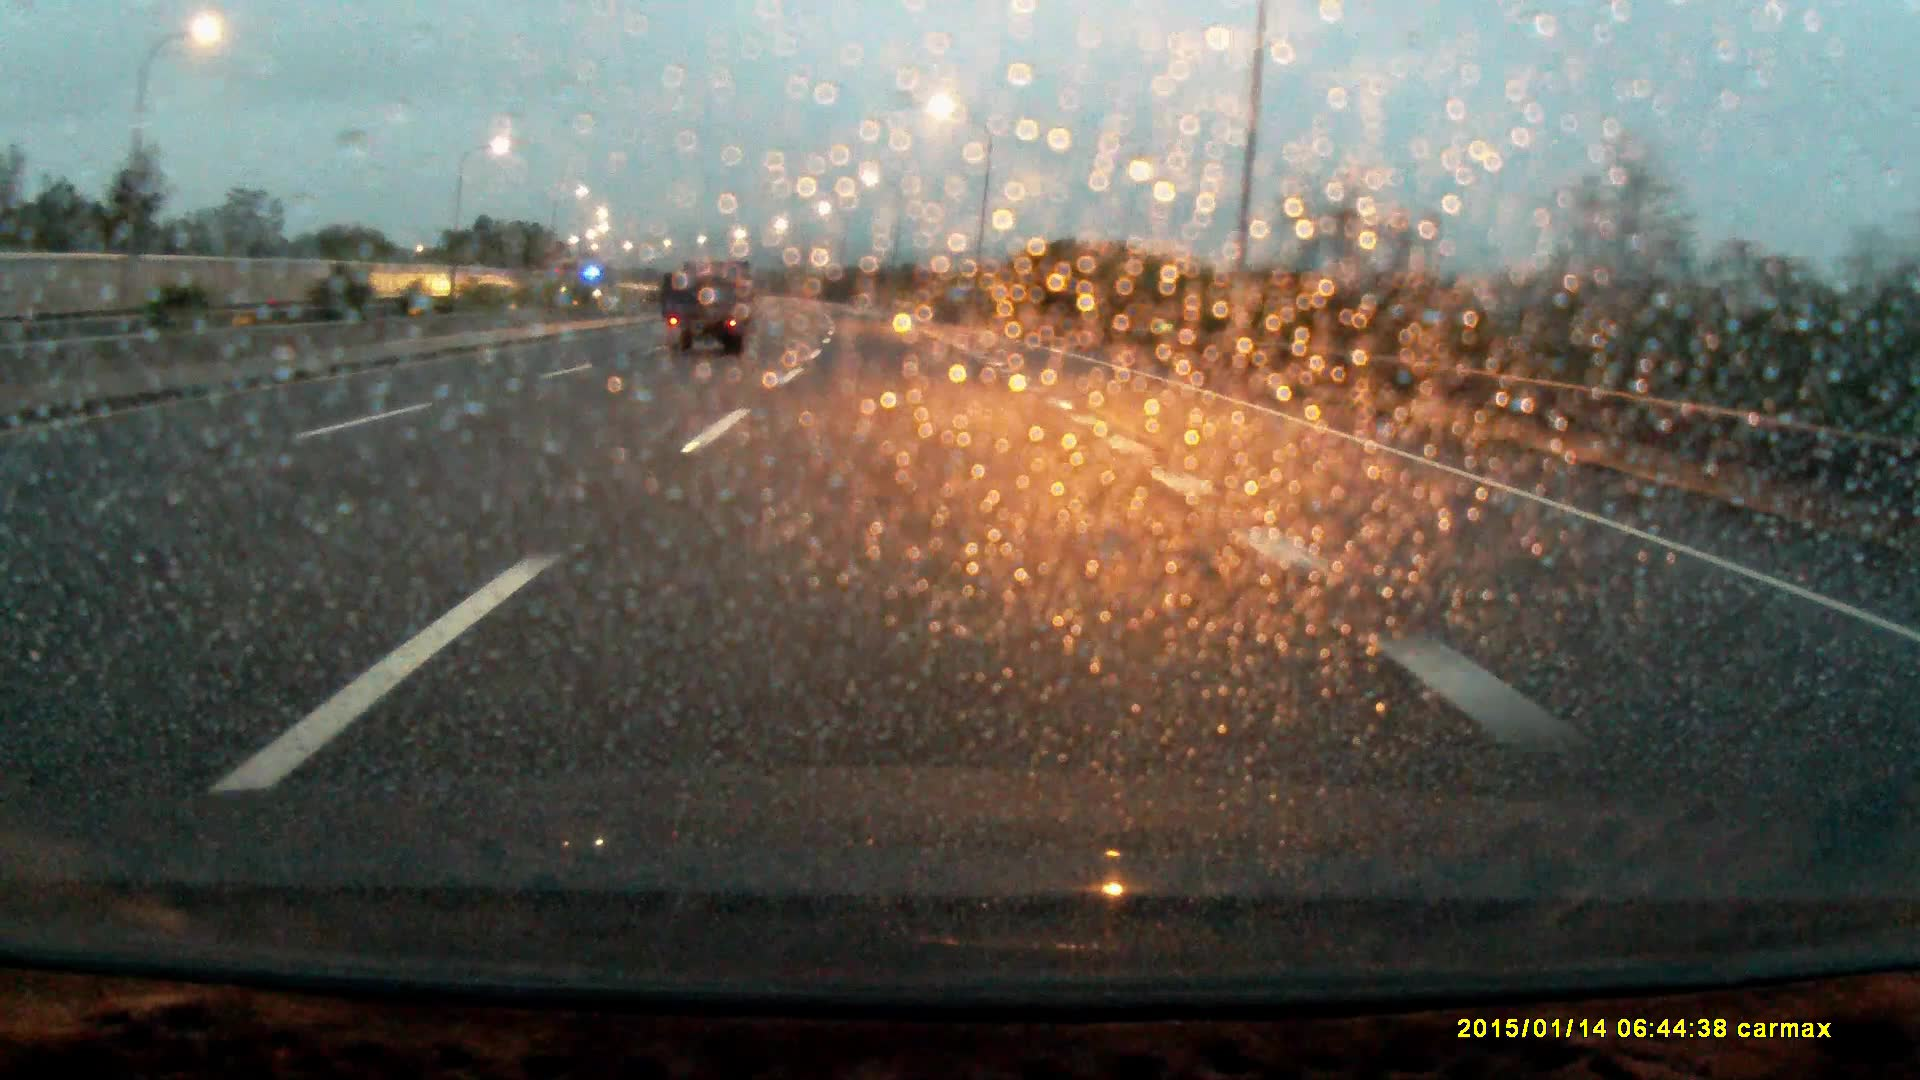vehicle: (667, 262, 758, 363)
